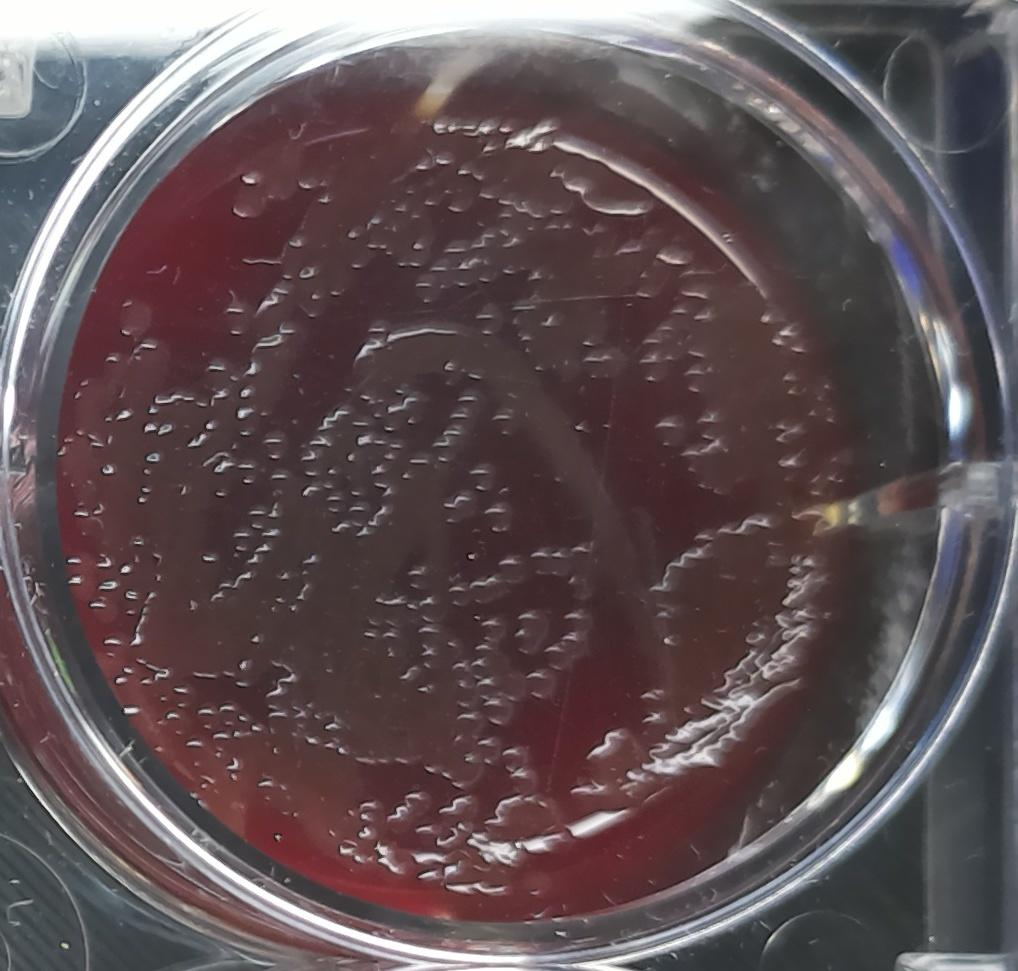vangil: (359, 303, 599, 543), (510, 602, 548, 655), (526, 665, 560, 699), (580, 725, 581, 725)
